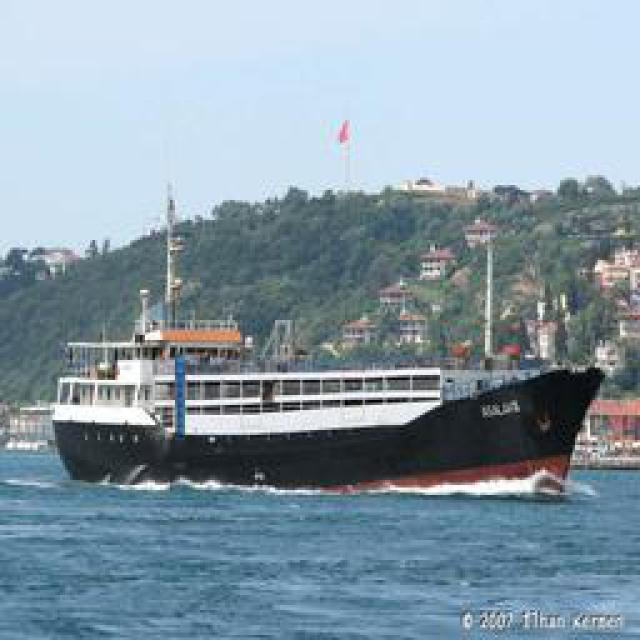Ship: (51, 296, 606, 489)
